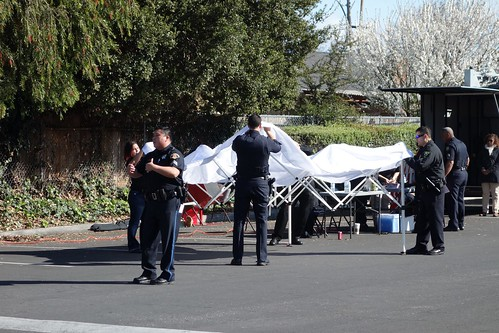policeman: (133, 126, 188, 295), (225, 114, 282, 271), (404, 126, 449, 261), (440, 124, 471, 234)
vegetation: (1, 1, 326, 112), (353, 1, 499, 116)
